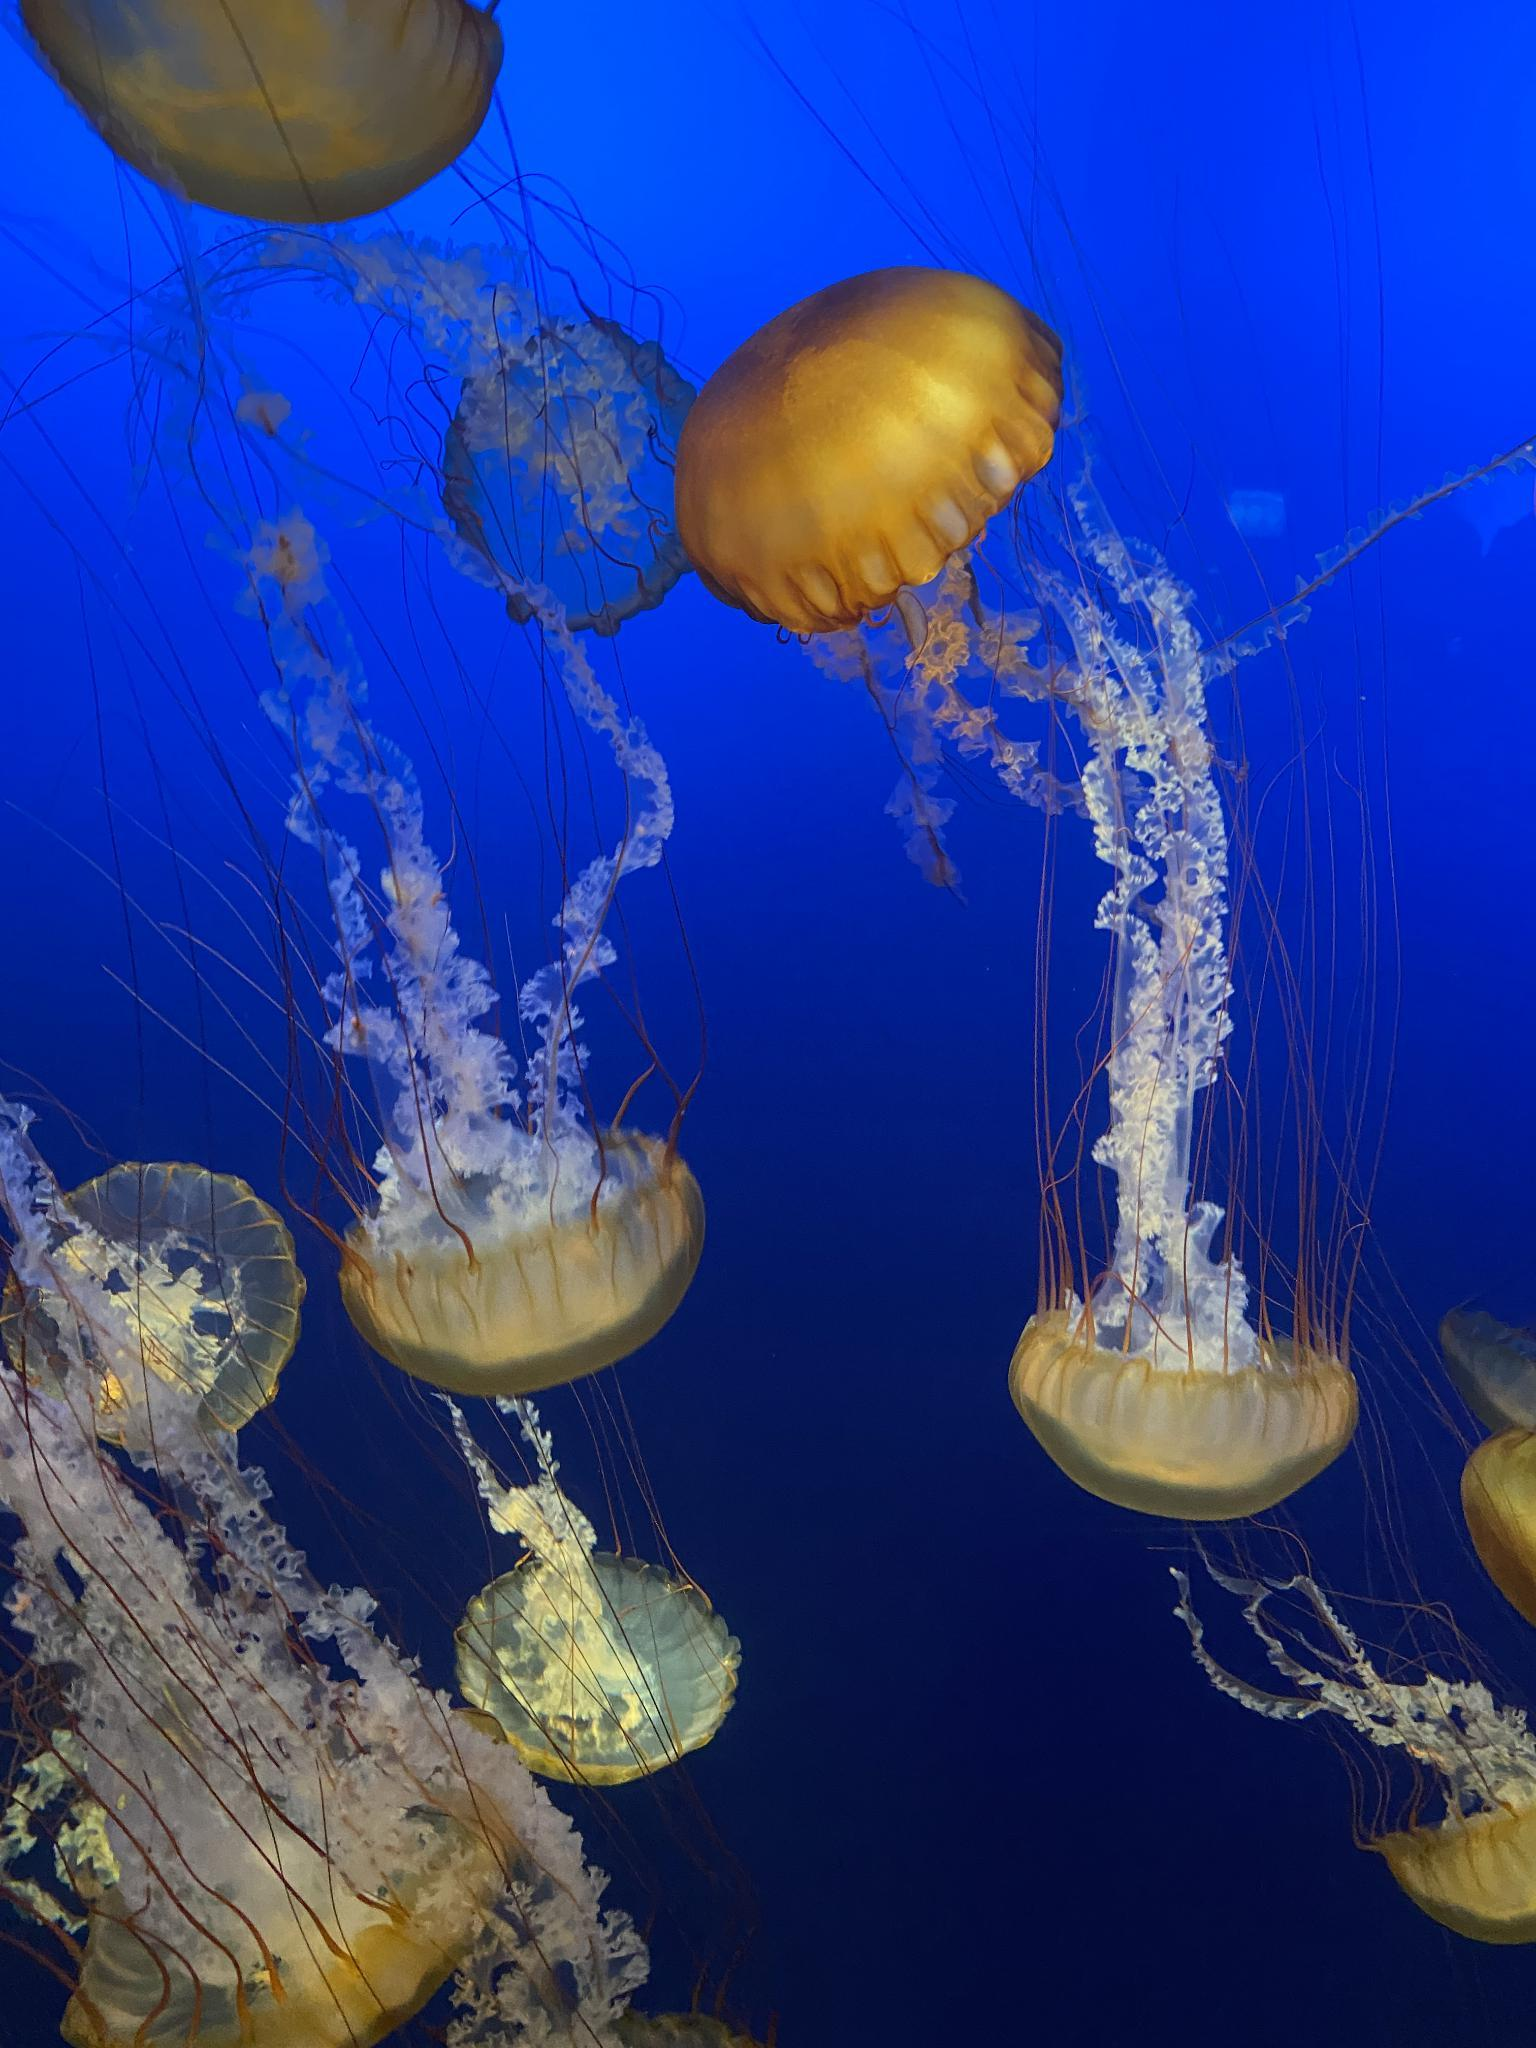jellyfish: (29, 1695, 523, 2017), (670, 268, 1066, 656), (32, 0, 497, 239), (337, 1127, 708, 1385), (440, 310, 707, 640), (1010, 1271, 1368, 1508), (10, 1163, 297, 1450), (426, 1535, 744, 1772), (1350, 1775, 1534, 1945), (1450, 1427, 1536, 1640), (1434, 1288, 1536, 1422)
